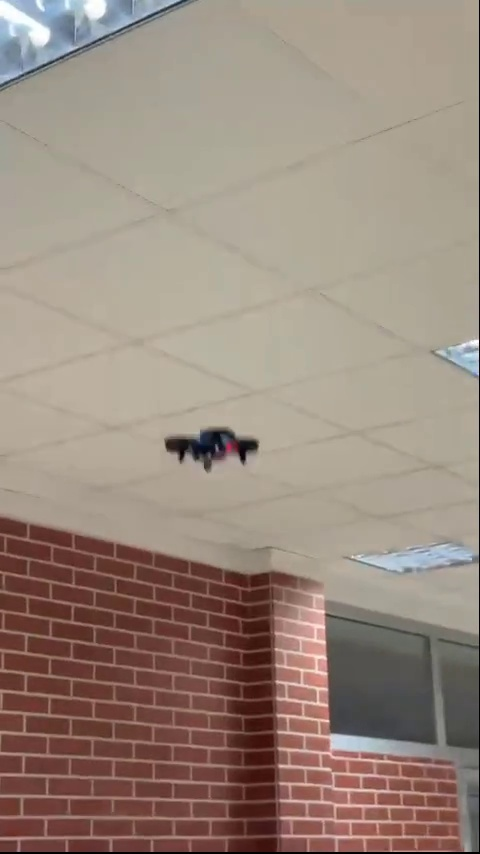drone: (154, 423, 256, 474)
